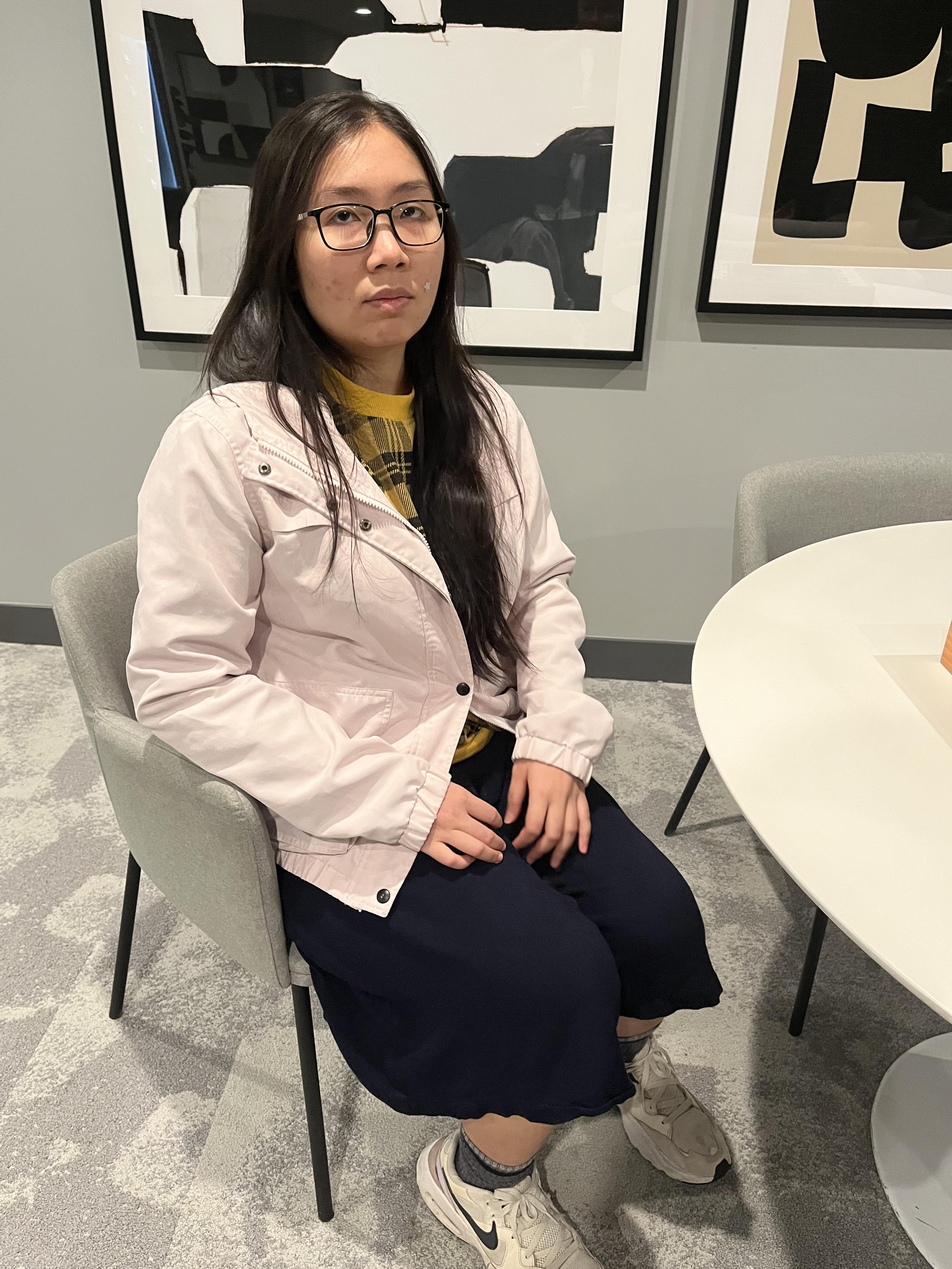GoodPosture: (132, 94, 735, 1267)
